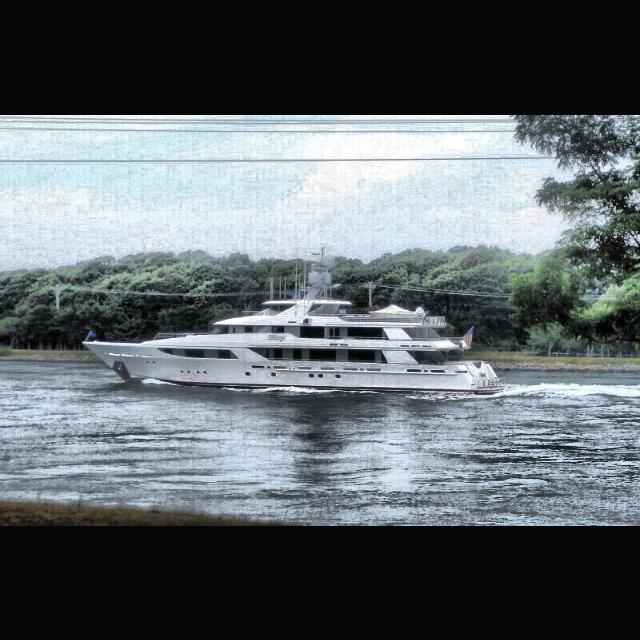yacht: (82, 244, 508, 394)
